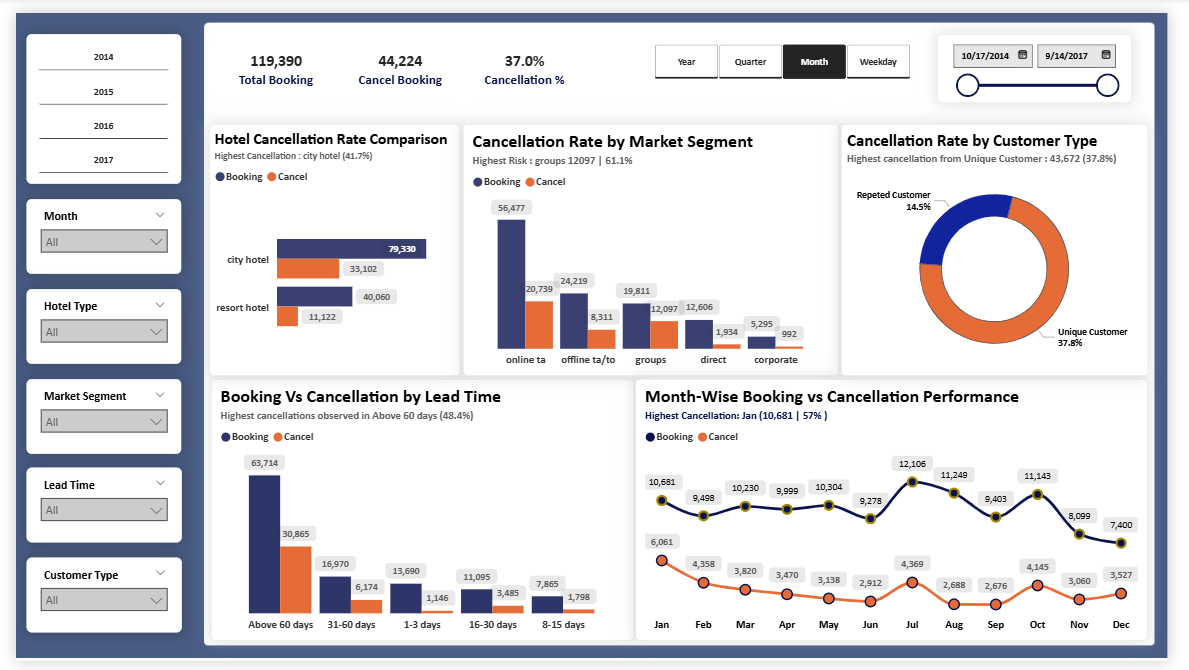

Layout of this report page (visuals, bound fields, positions):
{"tool":"powerbi","page":{"name":"Dashboard","canvas":[1280,720],"ordinal":0},"visuals":[{"type":"cardVisual","fields":{"Data":["Dax Query.total booking","Dax Query.total cancellation","Dax Query.cancellation rate %"]},"box":[215.7,35.7,424.3,54.3],"z":0},{"type":"clusteredColumnChart","title":"Booking Vs Cancellation by Lead Time","fields":{"Category":["Hotel Booking.lead time bucket"],"Y":["Dax Query.total booking","Dax Query.total cancellation"]},"box":[216.4,407.5,469.9,290.7],"z":1000},{"type":"clusteredBarChart","title":"Hotel Cancellation Rate Comparison","fields":{"Category":["Hotel Booking.hotel"],"Y":["Dax Query.Booking","Dax Query.Cancel"]},"box":[215,123.4,278.7,280.1],"z":2000},{"type":"clusteredColumnChart","title":"Cancellation Rate by Market Segment","fields":{"Category":["Hotel Booking.market_segment"],"Y":["Dax Query.Booking","Dax Query.Cancel"]},"box":[496.4,123.4,418.1,280.1],"z":3000},{"type":"lineChart","fields":{"Category":["Calender.Month"],"Y":["Dax Query.Booking","Dax Query.Cancel"]},"box":[688.9,407.5,569.4,290.7],"z":4000},{"type":"advancedSlicerVisual","fields":{"Values":["DateFilter.DateFilter"]},"box":[710,35.7,285.7,38.6],"z":5000},{"type":"slicer","fields":{"Values":["Calender.Date"]},"box":[1023.4,23.9,216.4,77],"z":6000},{"type":"advancedSlicerVisual","fields":{"Values":["Calender.Year"]},"box":[12,23.9,172.1,167],"z":7000},{"type":"donutChart","title":"Cancellation Rate by Customer Type","fields":{"Category":["Hotel Booking.Customer Type"],"Y":["Dax Query.cancellation rate %"]},"box":[917.2,123.4,341.1,280.1],"z":8000},{"type":"slicer","fields":{"Values":["Calender.Month"]},"box":[12,206.9,172.1,83.5],"z":9000},{"type":"slicer","fields":{"Values":["Hotel Booking.hotel"]},"box":[12,306.4,172.1,83.5],"z":9001},{"type":"slicer","fields":{"Values":["Hotel Booking.lead time bucket"]},"box":[11.8,505.6,172.6,83.6],"z":9002},{"type":"slicer","fields":{"Values":["Hotel Booking.market_segment"]},"box":[12,406,172.1,83.5],"z":9003},{"type":"slicer","fields":{"Values":["Hotel Booking.Customer Type"]},"box":[11.8,605.3,172.6,83.6],"z":9004}]}

Visuals, with their boxes in screenshot pixels (x1, y1, x2, y2), scaled from the page's 1280x720 canvas onto the 1189x670 screenshot:
cardVisual - Dax Query.total booking x Dax Query.total cancellation: 200/33/594/84
"Booking Vs Cancellation by Lead Time" clusteredColumnChart: 201/379/638/650
"Hotel Cancellation Rate Comparison" clusteredBarChart: 200/115/459/375
"Cancellation Rate by Market Segment" clusteredColumnChart: 461/115/849/375
lineChart - Calender.Month x Dax Query.Booking: 640/379/1169/650
advancedSlicerVisual - DateFilter.DateFilter: 660/33/925/69
slicer - Calender.Date: 951/22/1152/94
advancedSlicerVisual - Calender.Year: 11/22/171/178
"Cancellation Rate by Customer Type" donutChart: 852/115/1169/375
slicer - Calender.Month: 11/193/171/270
slicer - Hotel Booking.hotel: 11/285/171/363
slicer - Hotel Booking.lead time bucket: 11/470/171/548
slicer - Hotel Booking.market_segment: 11/378/171/456
slicer - Hotel Booking.Customer Type: 11/563/171/641
